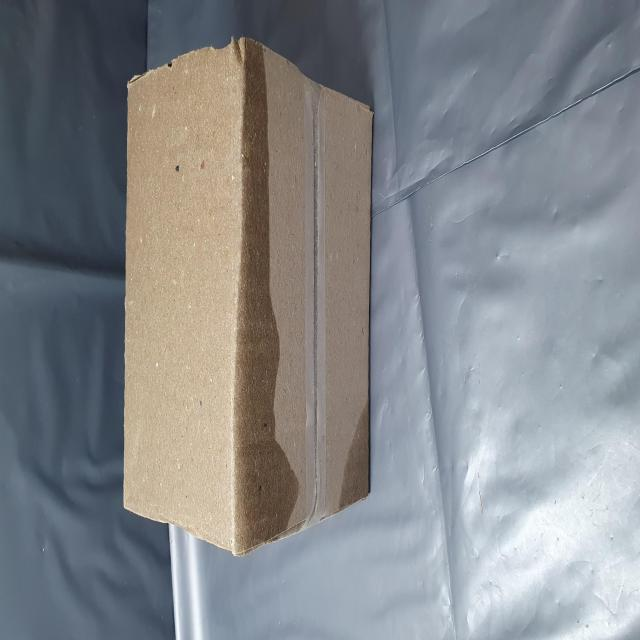wet: (42, 209, 336, 530), (72, 590, 132, 640)
